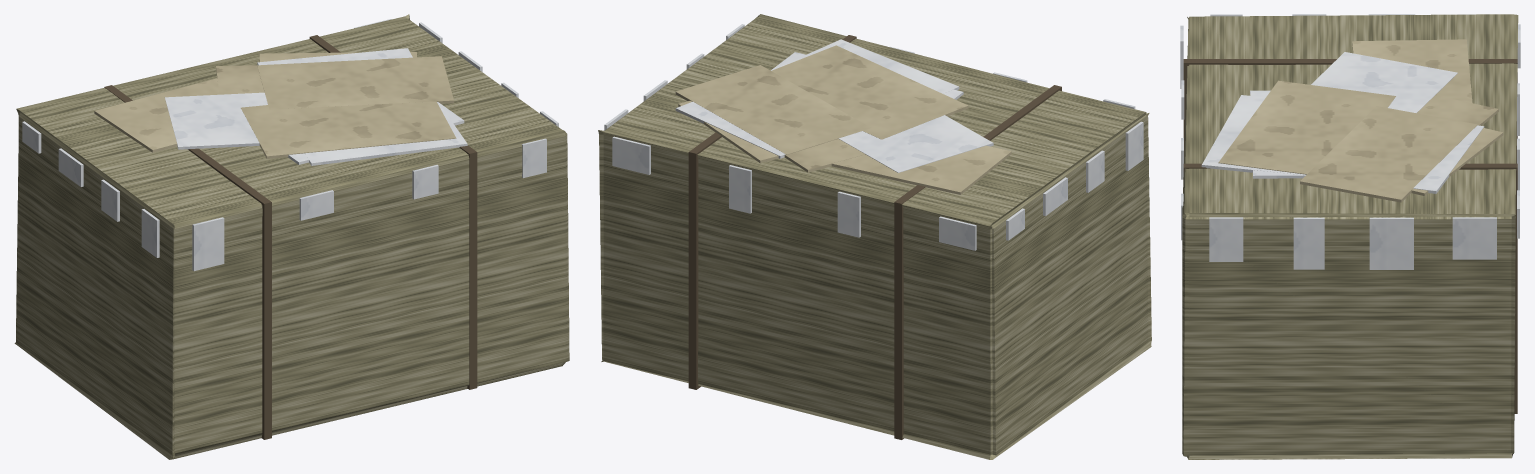
File: bale_snow.glb
The picture shows the model from 3 angles, left to right: view 1: azimuth 30°, elevation 25°; view 2: azimuth 150°, elevation 25°; view 3: azimuth 270°, elevation 25°; orthographic projection. The views are drawn at different scales.
Visible parts, largest first — view 1: BaleSnow; view 2: BaleSnow; view 3: BaleSnow.
Part boxes in pixels (<box>): BaleSnow: <box>14,14,569,459</box>; BaleSnow: <box>598,14,1151,459</box>; BaleSnow: <box>1180,14,1520,459</box>.
Bounding box in the file's own units: 1.31 × 0.7483 × 0.9204.
Materials: 4 (3 with a texture image).
